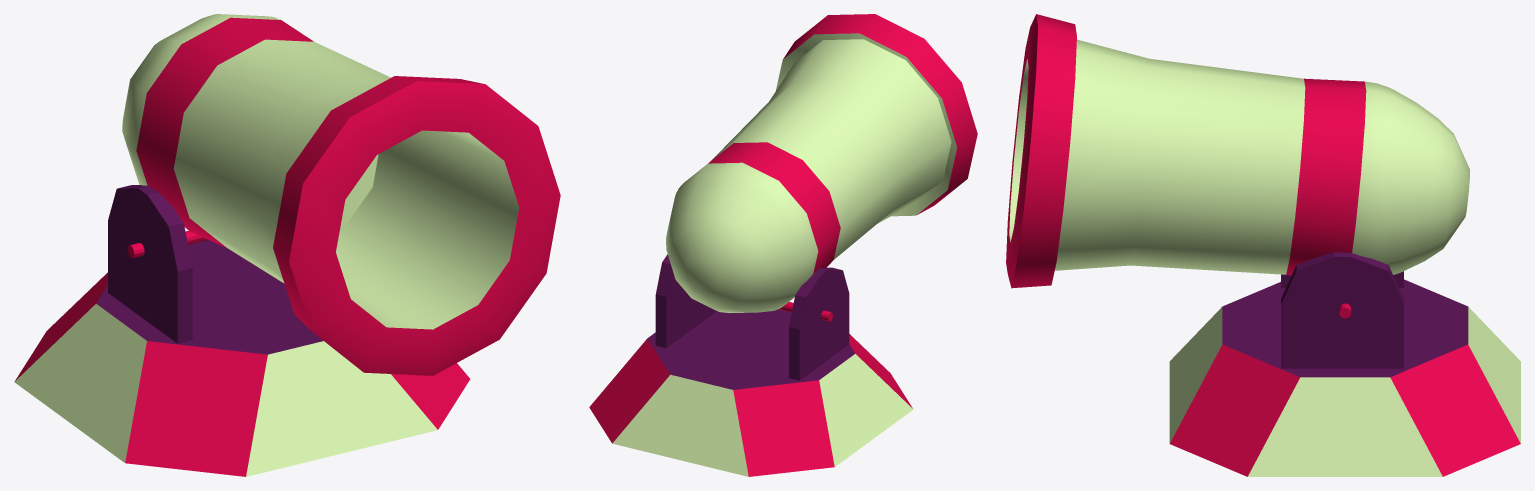
The model's file is Cannon.fbx.
The picture shows the model from 3 angles, left to right: view 1: azimuth 30°, elevation 25°; view 2: azimuth 150°, elevation 25°; view 3: azimuth 270°, elevation 25°; orthographic projection. The views are drawn at different scales.
Visible parts, largest first — view 1: Cylinder, Cube, Cube.001; view 2: Cylinder, Cube, Cube.001; view 3: Cylinder, Cube, Cube.001.
Part boxes in pixels (left/top/right/bottom): Cylinder: left=122, top=14, right=560, bottom=375; Cube: left=14, top=240, right=470, bottom=476; Cube.001: left=108, top=185, right=192, bottom=343; Cylinder: left=666, top=14, right=977, bottom=313; Cube: left=589, top=309, right=913, bottom=476; Cube.001: left=655, top=254, right=849, bottom=380; Cylinder: left=1006, top=14, right=1469, bottom=288; Cube: left=1169, top=279, right=1520, bottom=476; Cube.001: left=1281, top=252, right=1403, bottom=368.
Bounding box in the file's own units: 200 × 236 × 293.
